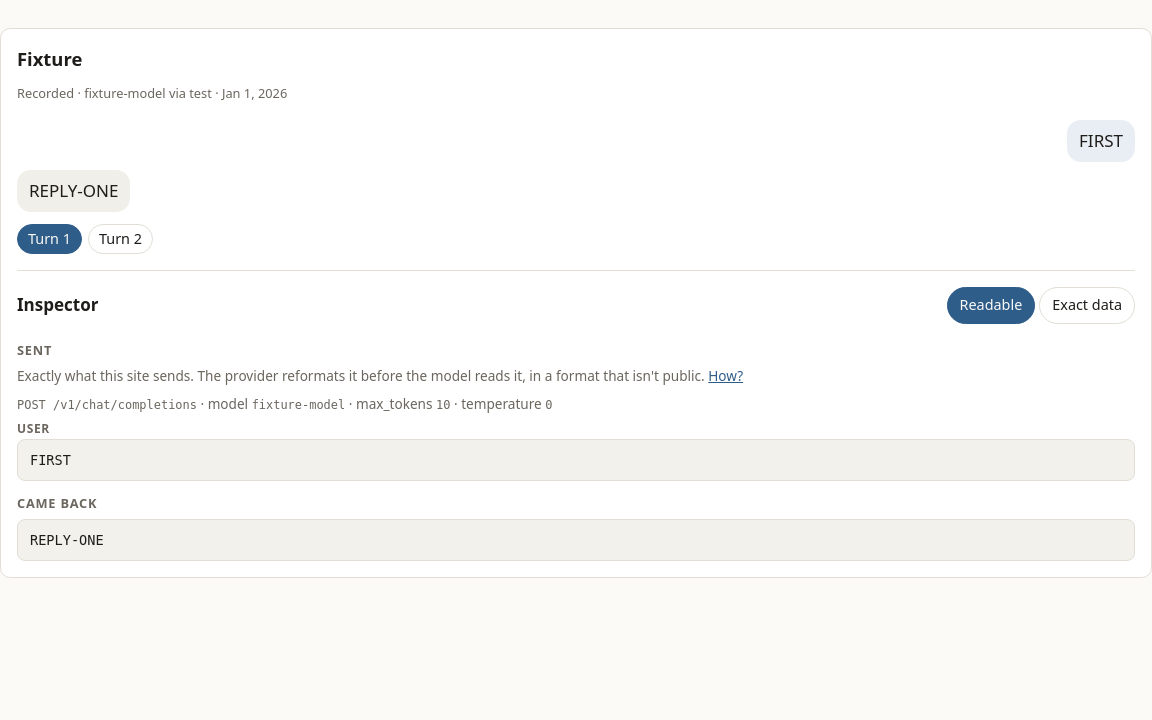
Test: RecordedExampleView › steps through turns and shows the exact request for each
Expected: the text "SECOND" is not shown
Click the button "Turn 2".
click(120, 239)  # box [88,224,153,254]
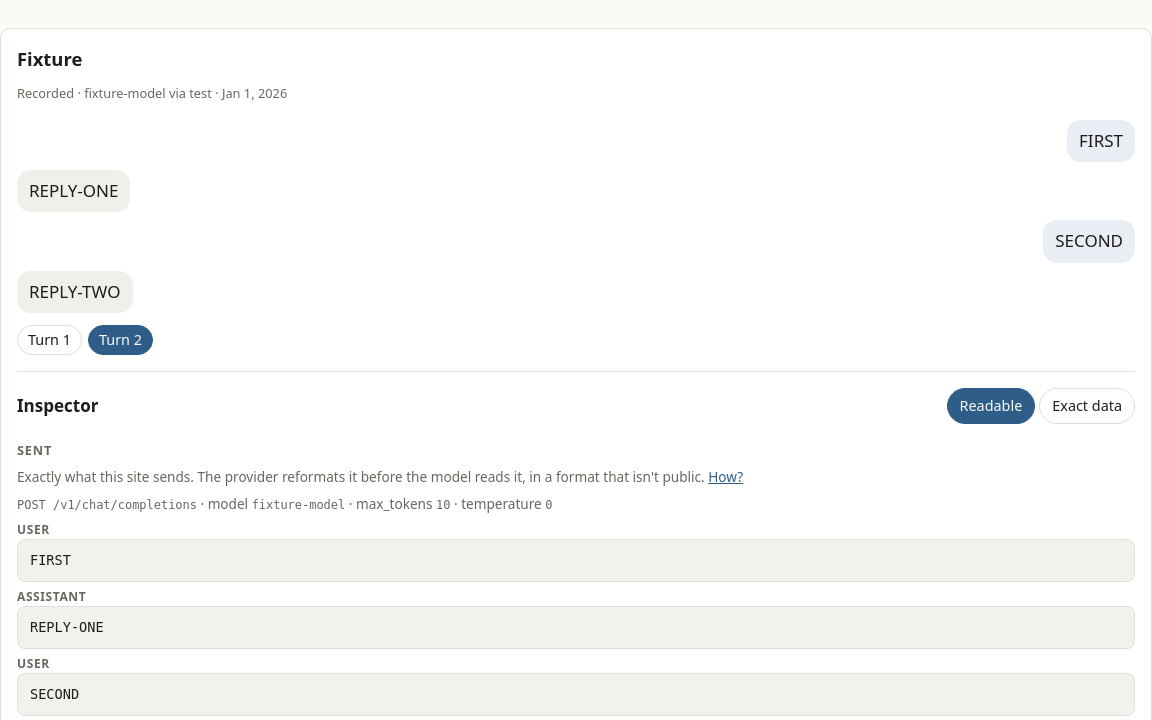
Expected: the list item "SECOND" is shown, [1043,220,1135,263]
Expected: the list item "REPLY-TWO" is shown, [17,271,132,313]
Click the button "Exact data".
click(1087, 406)  # box [1039,388,1135,424]
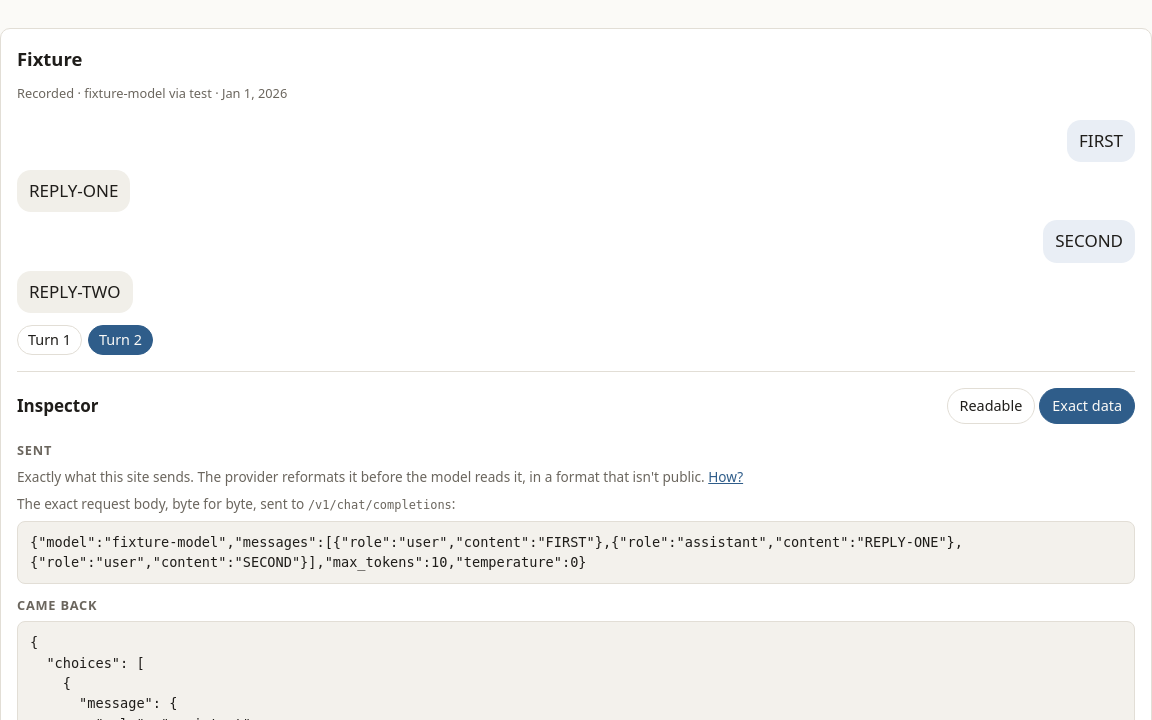
Expected: the text "\"messages\":[{\"role\":\"user\",\"content\":\"FIRST\"}" is shown, [30,534,963,570]
